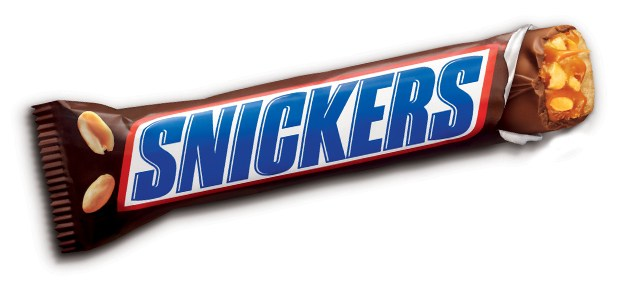snickers: (128, 53, 482, 198)
